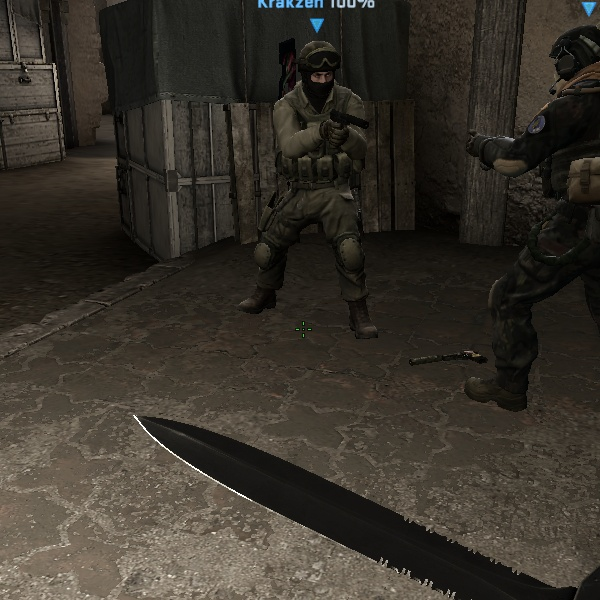ct_body: (399, 8, 587, 427), (235, 34, 392, 325)
ct_head: (545, 18, 600, 115), (287, 35, 352, 101)
